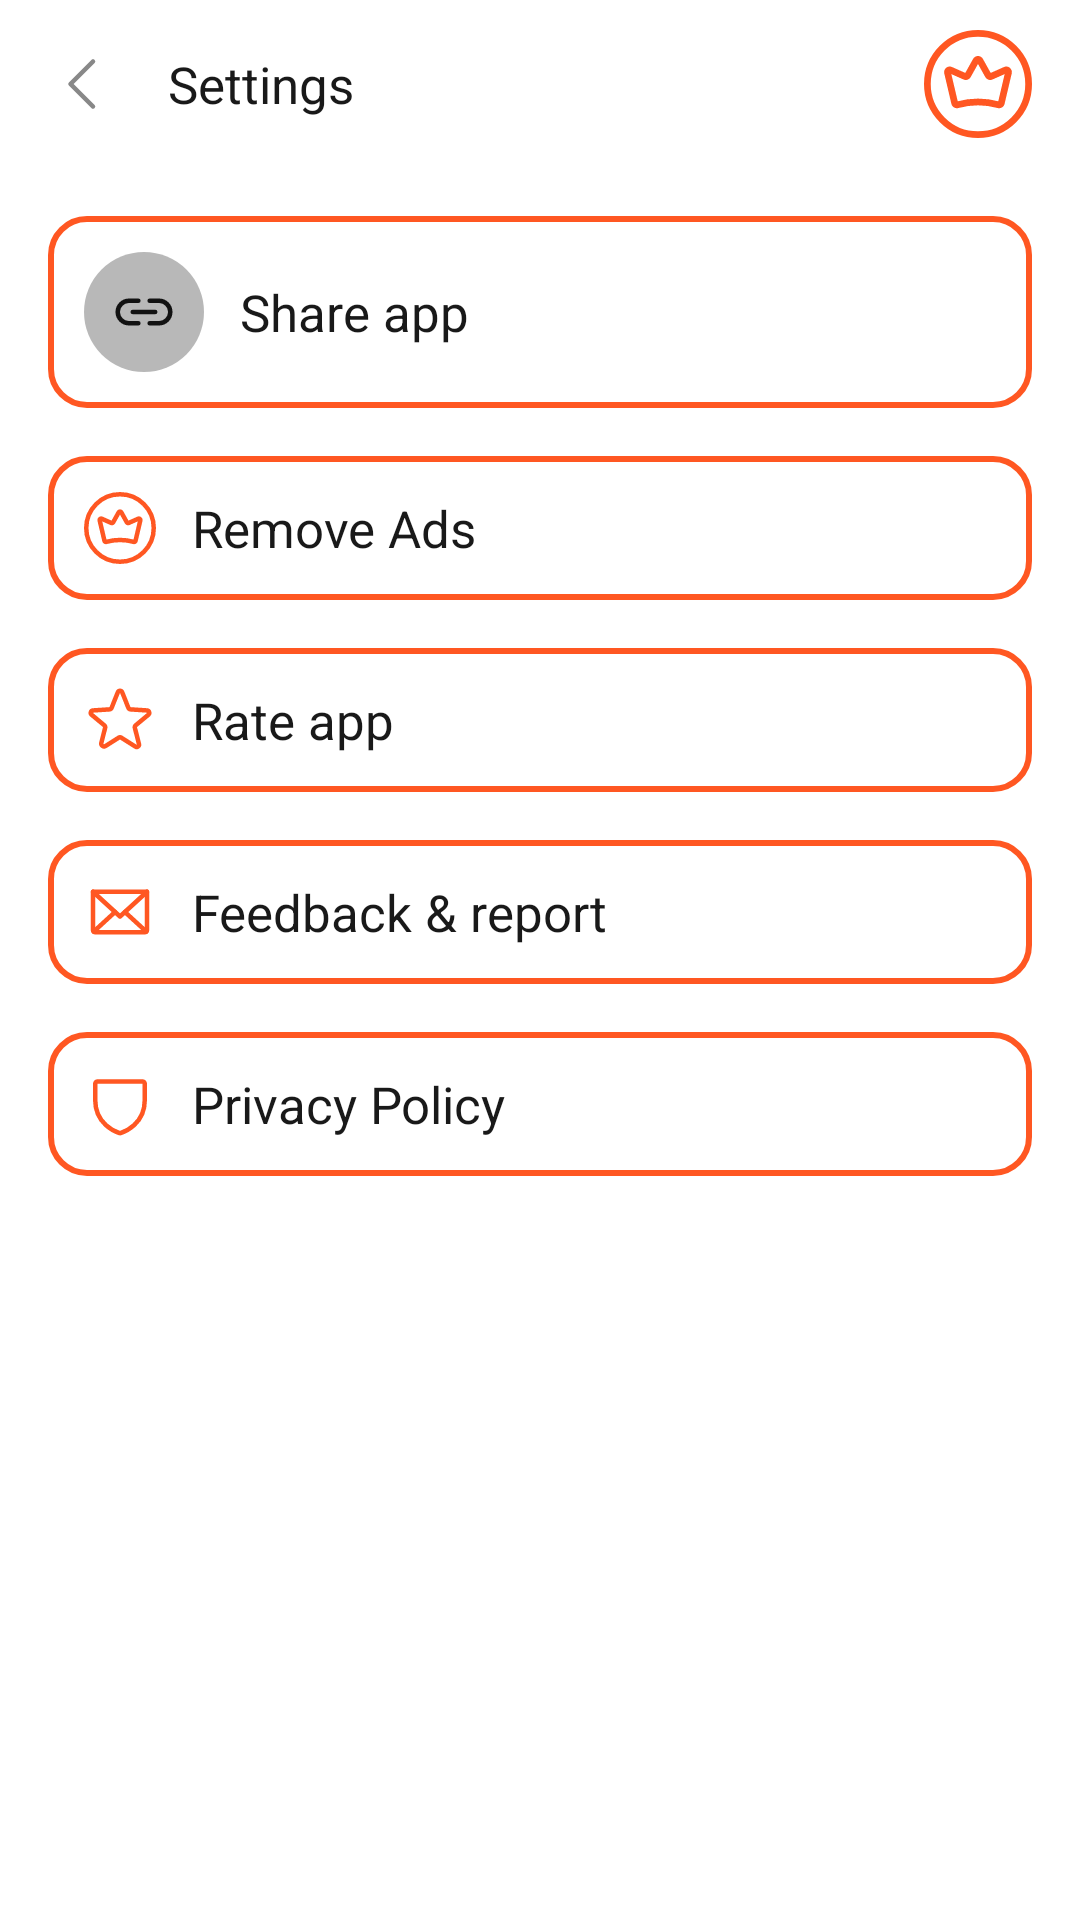

Named icons in this screenshot (1080×1920) and their centers, [x,y]:
caret left: [82,84]
pro: [978,84]
